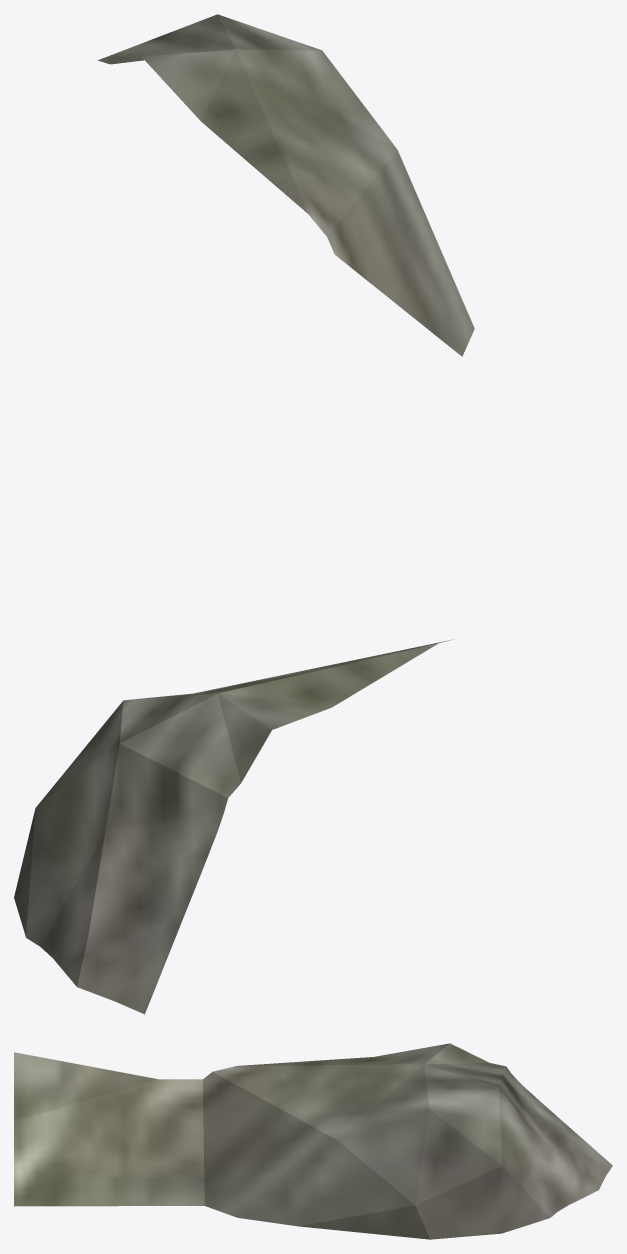
The picture shows the model from 3 angles, top to bottom: view 1: azimuth 30°, elevation 25°; view 2: azimuth 150°, elevation 25°; view 3: azimuth 270°, elevation 25°; orthographic projection. The views are drawn at different scales.
Size of the model in its own units: 0.4055 by 0.3187 by 1.39.
1 material, 1 textured.
